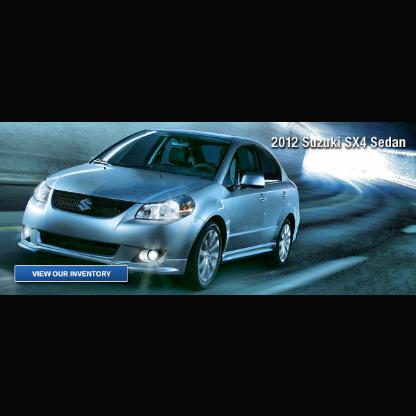Suzuki SX4 Sedan 2012: (22, 128, 302, 290)
